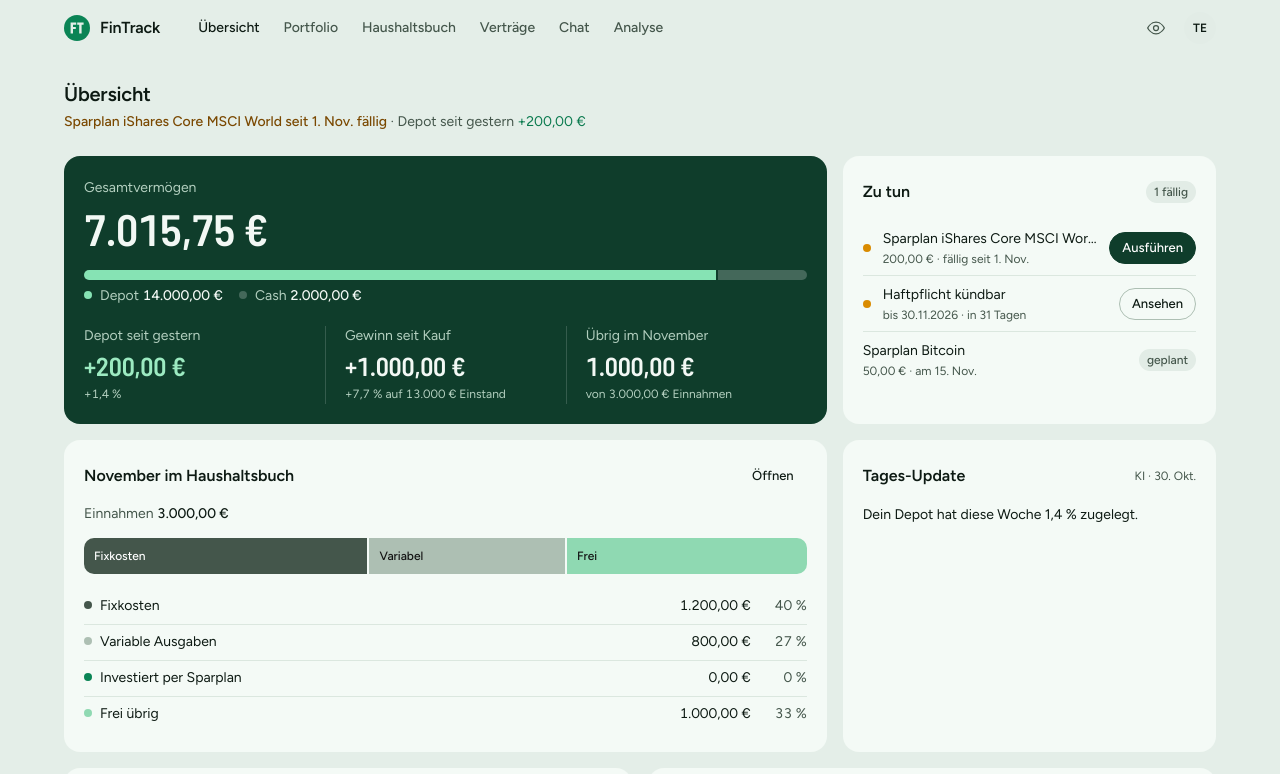
Einstellungen › ist über das Kontomenü erreichbar
Click the button with aria-label "Konto".
click(1200, 28)  # box [1184,12,1216,44]
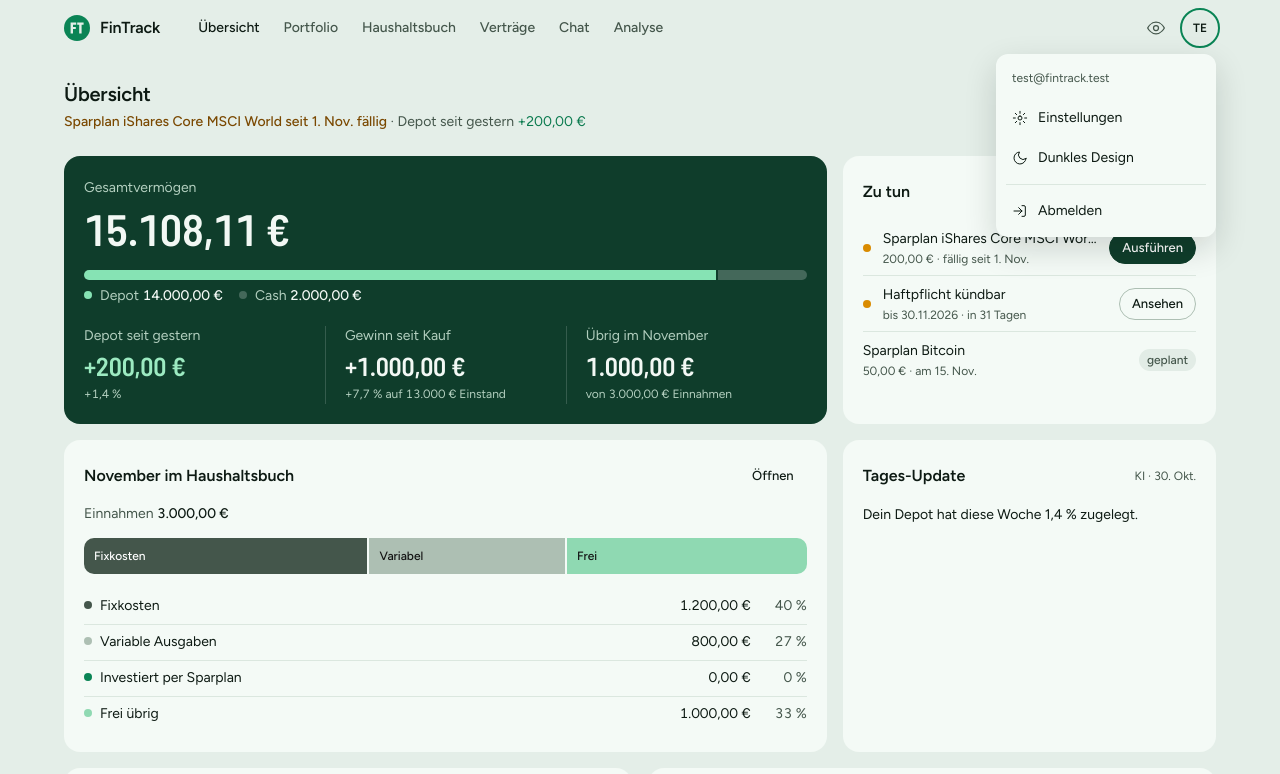
Click the menu item "Einstellungen".
click(1067, 118)  # box [1012,109,1122,126]
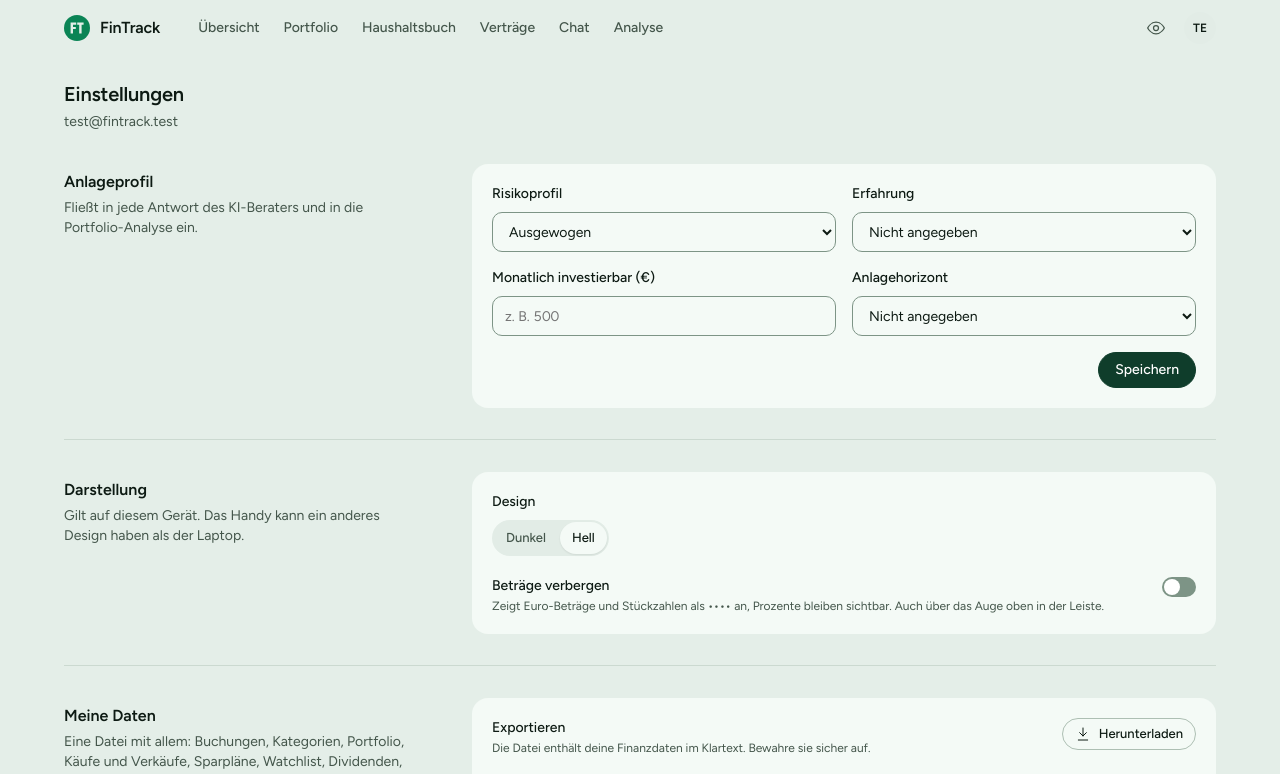
Expected: the heading "Einstellungen" is shown, [64,82,184,106]
